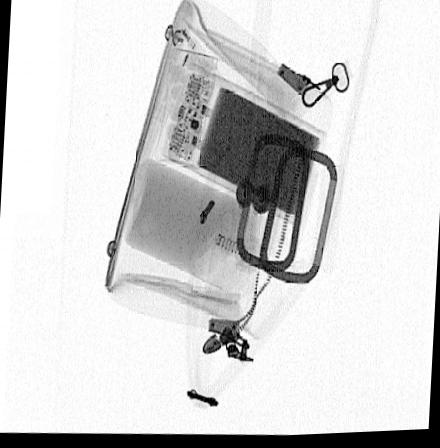Powerbank: (162, 63, 329, 227)
